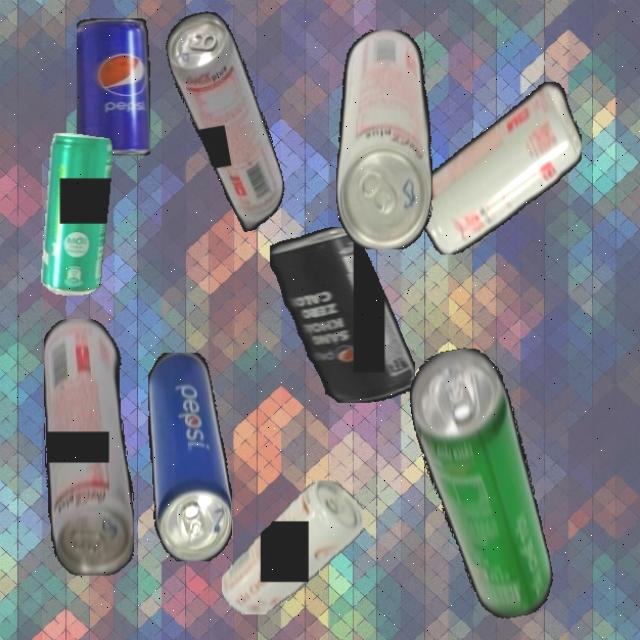debris: (403, 340, 558, 628), (160, 3, 290, 239), (417, 80, 582, 254), (269, 227, 415, 403), (43, 318, 134, 576), (336, 28, 432, 250), (221, 480, 363, 614), (147, 352, 232, 561), (40, 132, 113, 295), (76, 18, 150, 156)
